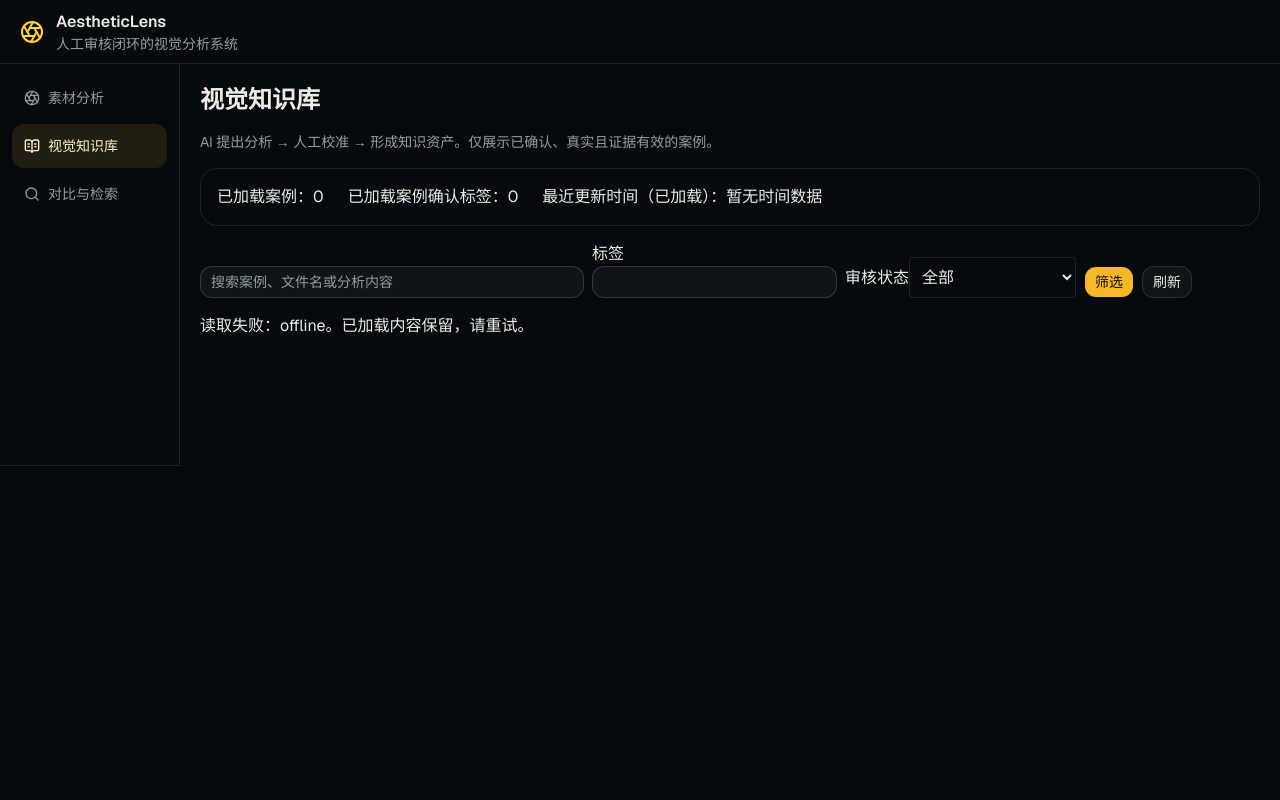
shows missing review data and allows load failures to retry
Expected: the message "读取失败：offline。已加载内容保留，请重试。" is shown, [200, 315, 534, 336]
Click the button "刷新" at (1167, 282), box [1142, 266, 1192, 298]
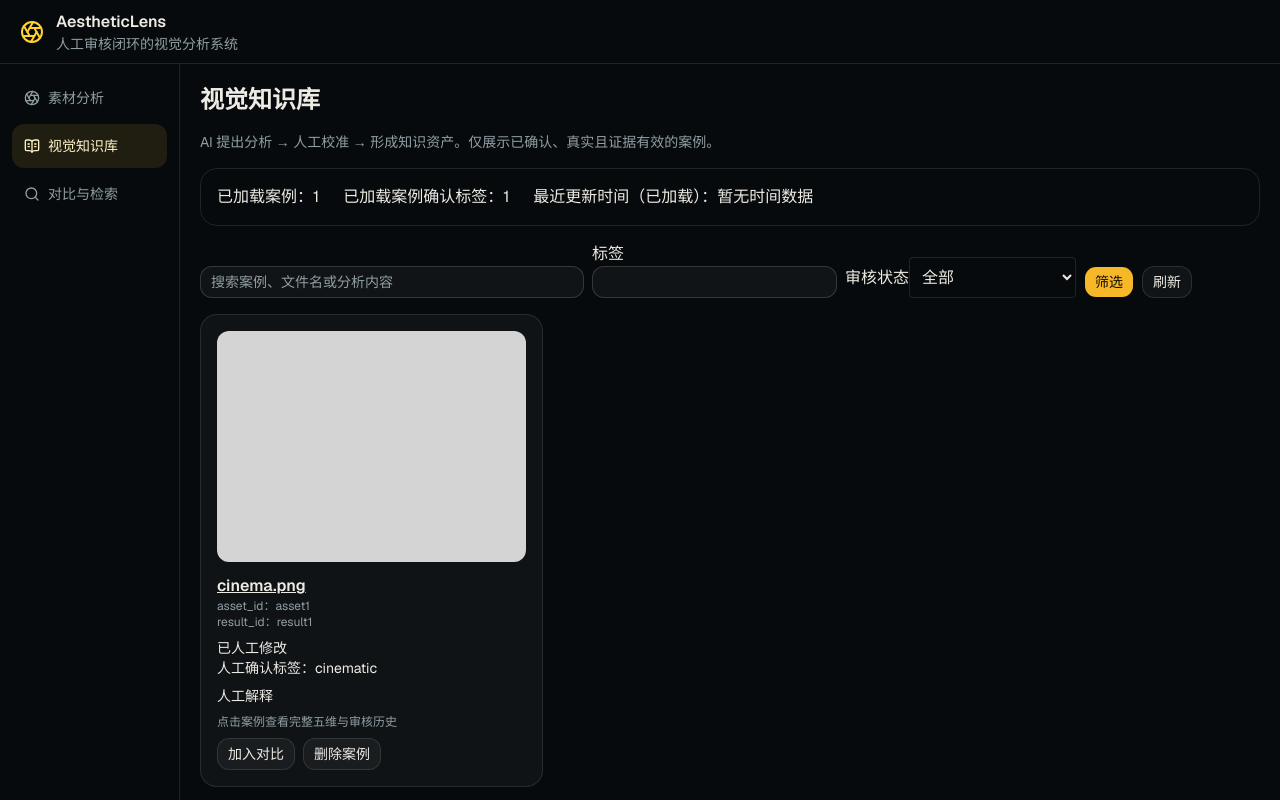
Expected: the link "cinema.png" is shown, [217, 576, 306, 596]
